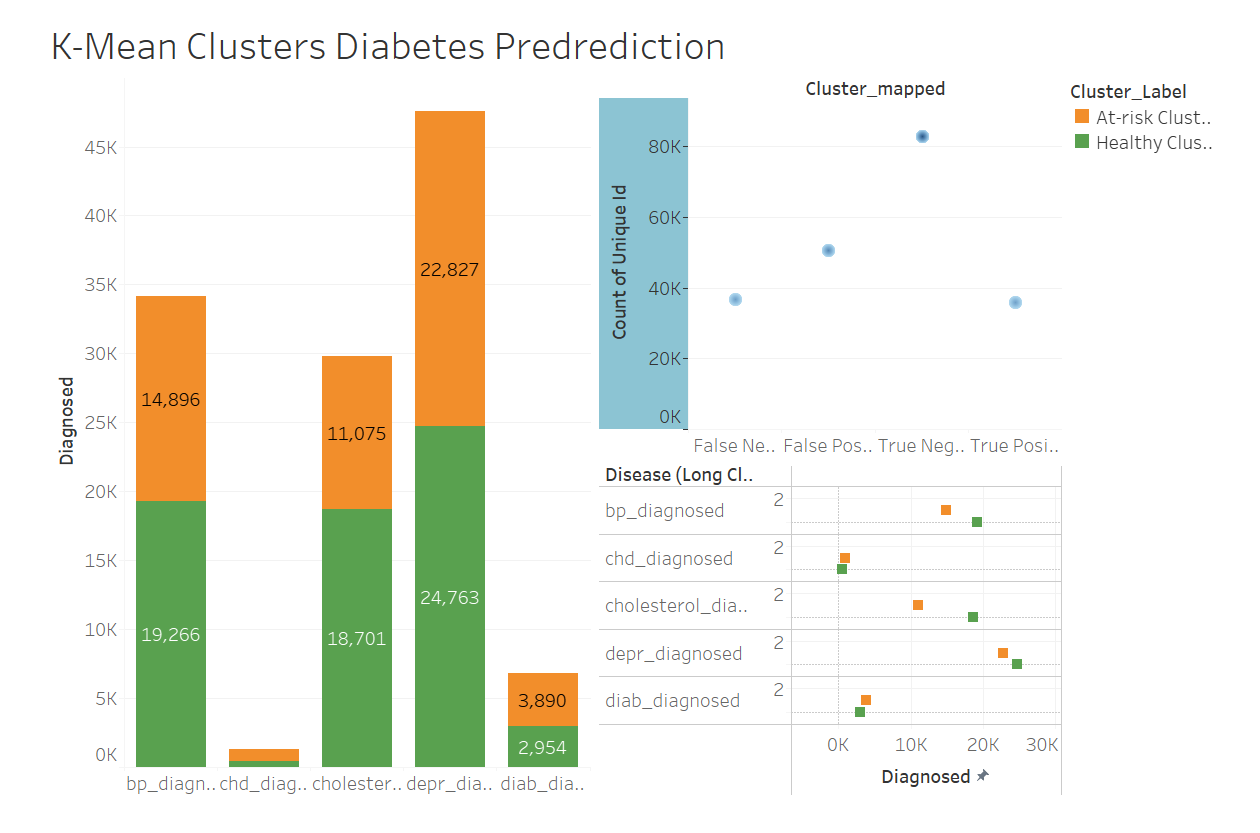

This screenshot's page, from the dashboard's own definition file:
{"tool":"tableau","page":{"name":"K-Mean Clusters Diabetes Predrediction","canvas":[1200,800],"ordinal":3},"visuals":[{"type":"title","box":[8,8,1184,58]},{"type":"worksheet","title":"Cluster Prediction (Healthy vs At Risk)","mark":"Automatic","rows":["diagnosed"],"cols":["disease (long_cluster_disease.csv)"],"box":[8,66,553,726]},{"type":"worksheet","title":"K-mean Clusters","mark":"Heatmap","rows":["unique_id (new_merged_for_tableau.csv1)"],"cols":["Calculation_89790546154647562"],"box":[561,66,471,388]},{"type":"legend","title":"Cluster Prediction (Healthy vs At Risk)","param":"[federated.1eyh0di1v6c3jl159ehho1ouayks].[none:Calculation_89790546149617673:nk]","box":[1032,66,160,84]},{"type":"worksheet","title":"Cluster","mark":"Square","rows":["disease (long_cluster_disease.csv)","cluster (long_cluster_disease.csv)"],"cols":["diagnosed"],"box":[561,454,471,338]}]}

Visuals, with their boxes in screenshot pixels (x1, y1, x2, y2), scaled from the page's 1200x800 canvas onto the 1260x833 screenshot:
title: (8,8,1252,69)
"Cluster Prediction (Healthy vs At Risk)" worksheet: (8,69,589,825)
"K-mean Clusters" worksheet (Heatmap marks): (589,69,1084,473)
"Cluster Prediction (Healthy vs At Risk)" legend: (1084,69,1252,156)
"Cluster" worksheet (Square marks): (589,473,1084,825)
